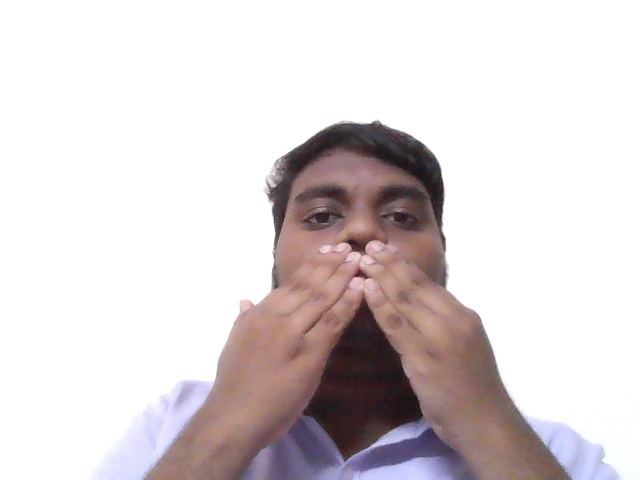Thank you: (195, 233, 510, 415)
